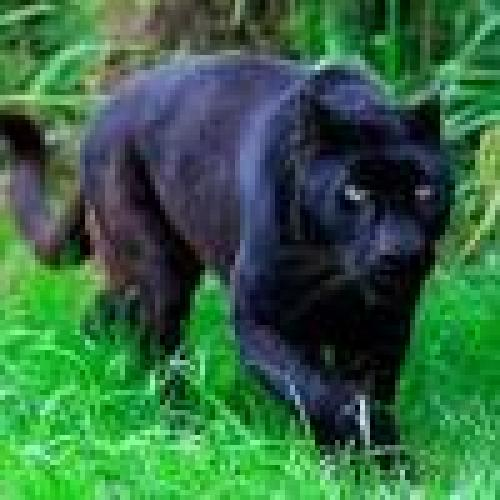panther-endangered: (0, 49, 456, 466)
